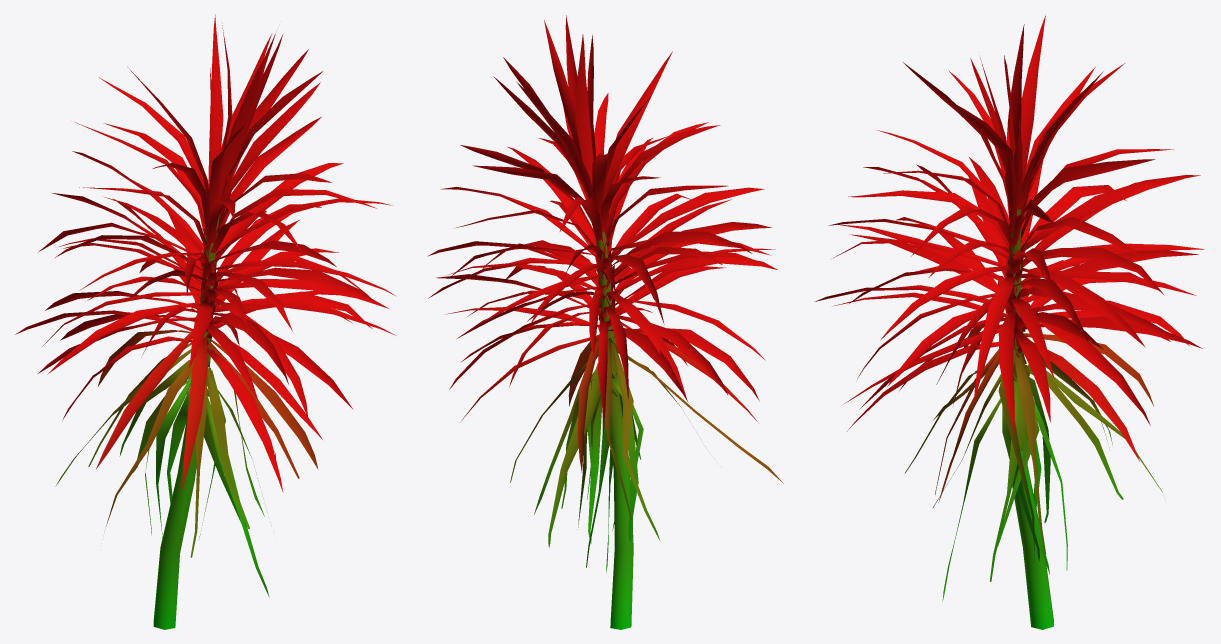
Rendered from Var1_LOD4.fbx.
3 renders of one model, left to right at view 1: azimuth 30°, elevation 25°; view 2: azimuth 150°, elevation 25°; view 3: azimuth 270°, elevation 25°, orthographic. The views are drawn at different scales.
Visible parts, largest first — view 1: _sewh_Var1_LOD4; view 2: _sewh_Var1_LOD4; view 3: _sewh_Var1_LOD4.
Boxes of the visible parts, x1=… form: _sewh_Var1_LOD4: x1=15, y1=14, x2=396, y2=629; _sewh_Var1_LOD4: x1=427, y1=15, x2=783, y2=629; _sewh_Var1_LOD4: x1=814, y1=15, x2=1204, y2=629.
Size of the model in its own units: 80.78 by 145 by 82.91.
